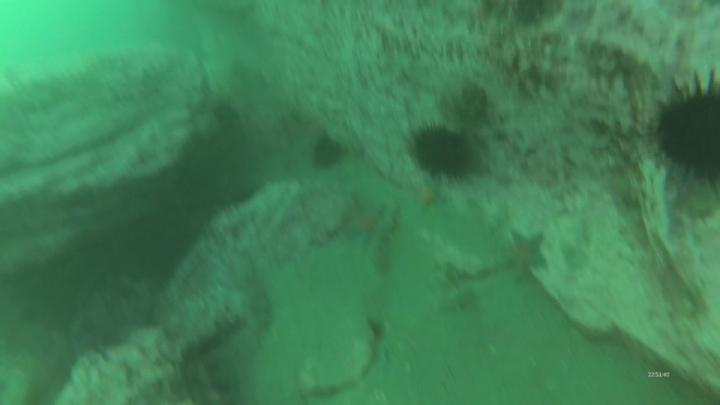echinus: (658, 89, 720, 177), (412, 129, 473, 177), (312, 137, 342, 165)
starfish: (506, 236, 548, 279), (355, 205, 386, 241), (414, 185, 446, 209)
